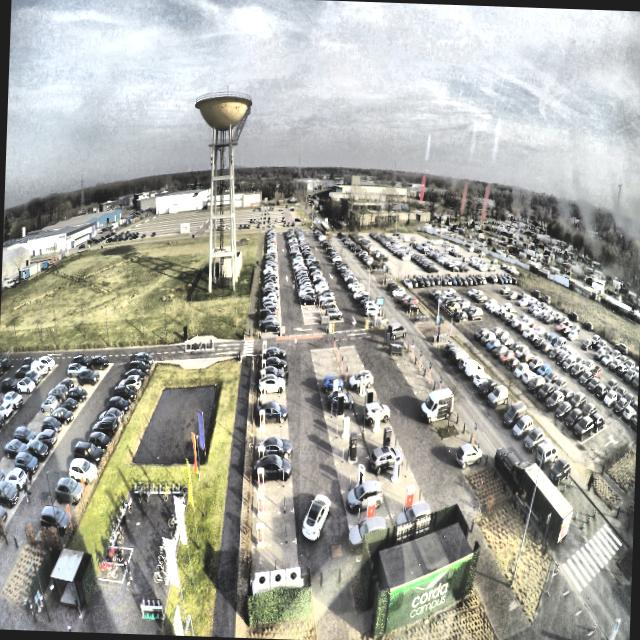cabinet: (255, 566, 300, 587)
car: (301, 492, 333, 544), (255, 455, 292, 481), (255, 399, 288, 427), (257, 436, 293, 460), (258, 374, 285, 395), (261, 356, 287, 371), (264, 345, 287, 361), (257, 365, 285, 377)
parking: (251, 540, 298, 582), (252, 510, 295, 547), (253, 484, 294, 515), (254, 462, 292, 489), (255, 443, 290, 468), (256, 426, 288, 446), (256, 410, 287, 430), (257, 380, 285, 399), (257, 396, 286, 412), (258, 368, 284, 385), (259, 351, 283, 362), (259, 360, 283, 370)
supercharger: (255, 523, 264, 547), (257, 494, 264, 516), (257, 467, 264, 483), (258, 428, 265, 444), (258, 446, 264, 462), (260, 395, 265, 411), (260, 382, 265, 396), (260, 411, 264, 428), (261, 370, 265, 381), (261, 359, 265, 368), (262, 341, 266, 350), (262, 351, 266, 360)
